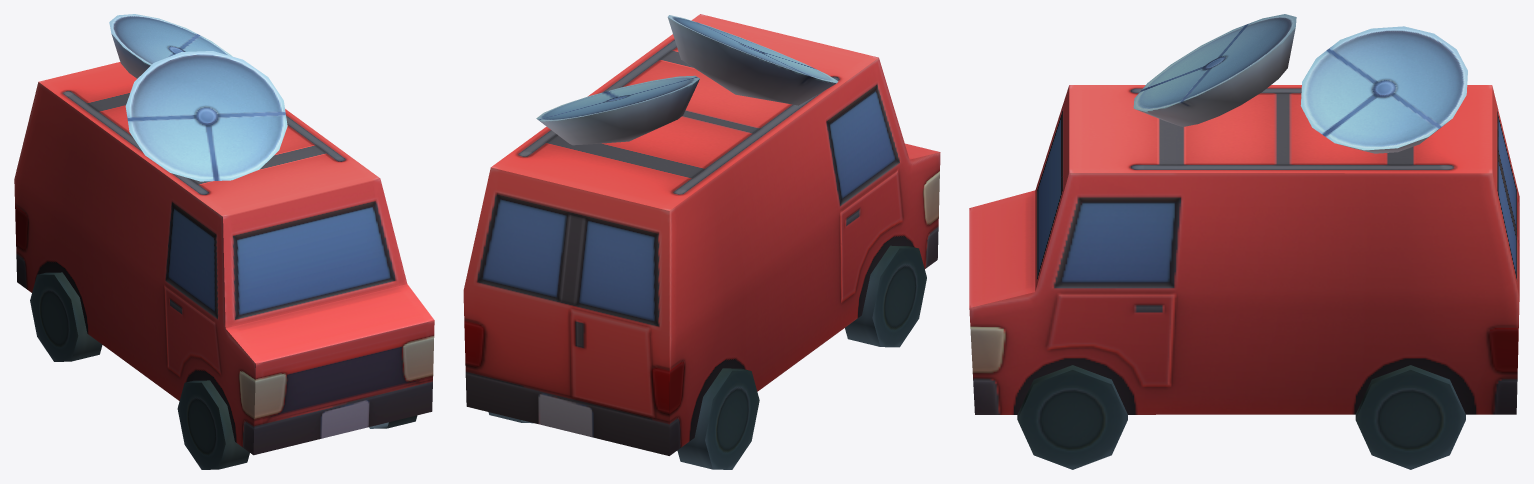
Rendered from news_van.FBX.
3 views of the same model, side by side, from view 1: azimuth 30°, elevation 25°; view 2: azimuth 150°, elevation 25°; view 3: azimuth 270°, elevation 25° (orthographic). The views are drawn at different scales.
Parts seen in each view (by area): view 1: News_Wan, News_Wan_l_001; view 2: News_Wan, News_Wan_l_001; view 3: News_Wan, News_Wan_l_001.
Boxes of the visible parts, x1,y1,x2,y2 form: News_Wan: (14, 14, 434, 455); News_Wan_l_001: (30, 272, 417, 469); News_Wan: (463, 14, 940, 455); News_Wan_l_001: (488, 245, 926, 469); News_Wan: (969, 14, 1519, 414); News_Wan_l_001: (1017, 365, 1465, 469).
Size of the model in its own units: 3.6 by 5.65 by 7.5.
